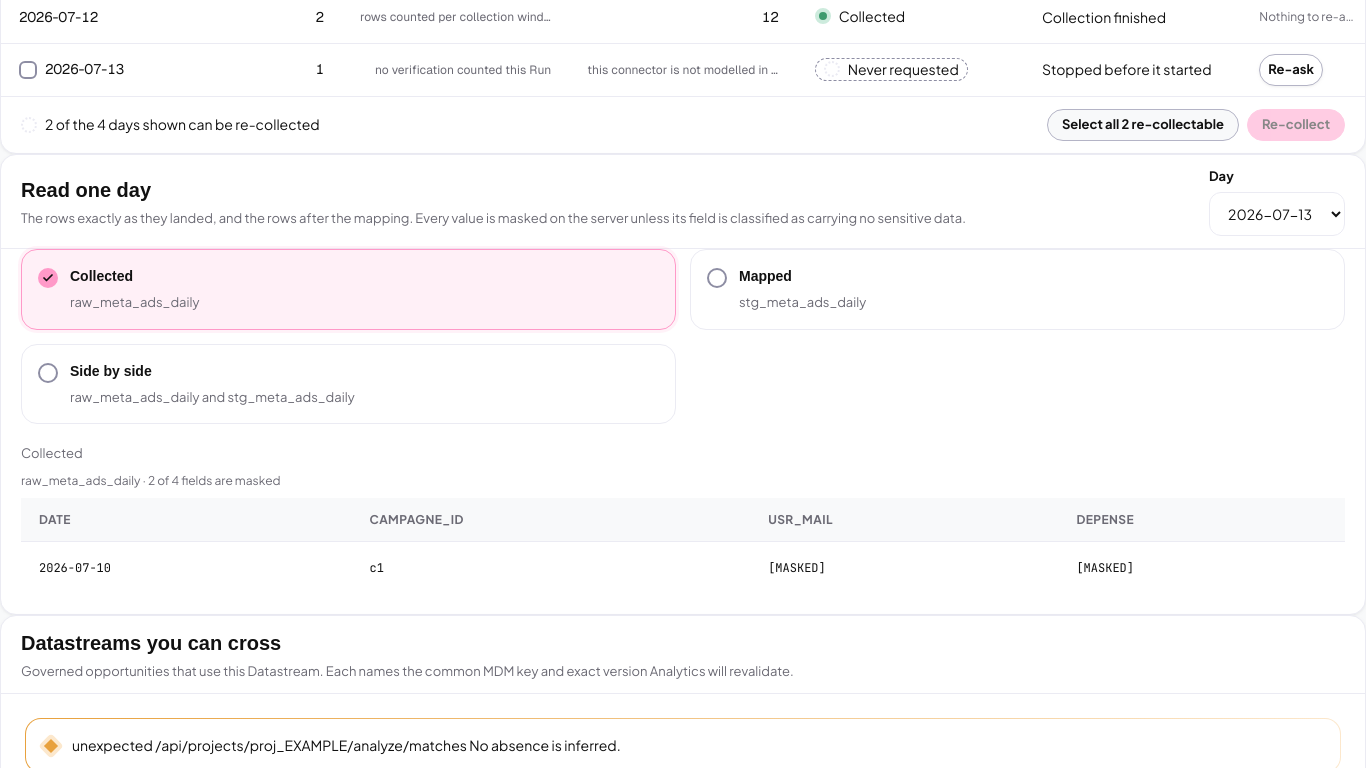
Data tab, read by day › renders the server's refusal verbatim when nothing can be paired
(page scrolled)
Click the radio button labelled "Side by side" at (111, 371), box x1=21 y1=344 x2=676 y2=424
(page scrolled)
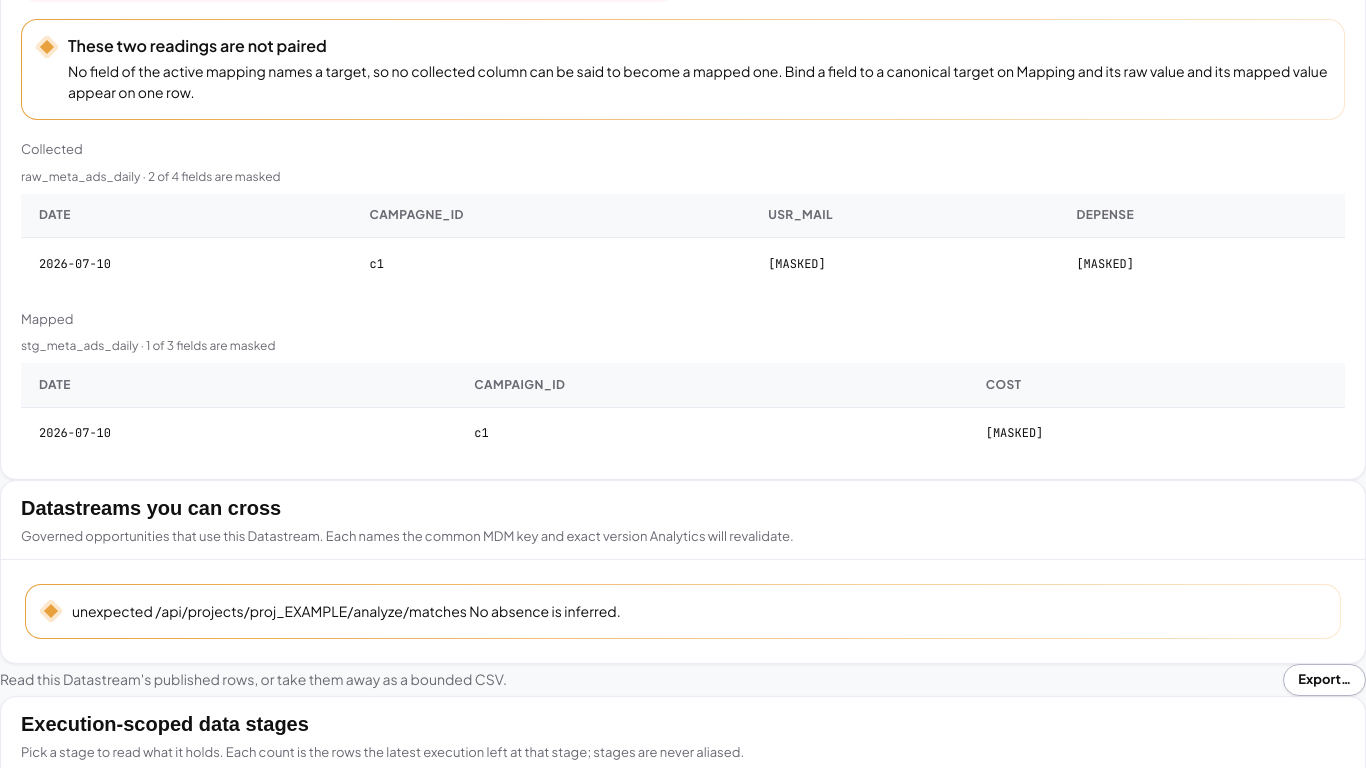
expect the text "These two readings are not paired" is shown: met, box x1=68 y1=35 x2=327 y2=56
expect the text "No field of the active mapping names a target, so no collected column can be said to become a mapped one. Bind a field t" is shown: met, box x1=68 y1=62 x2=1328 y2=101
expect the element with test id "reading-mapped" is shown: met, box x1=21 y1=310 x2=1345 y2=459
